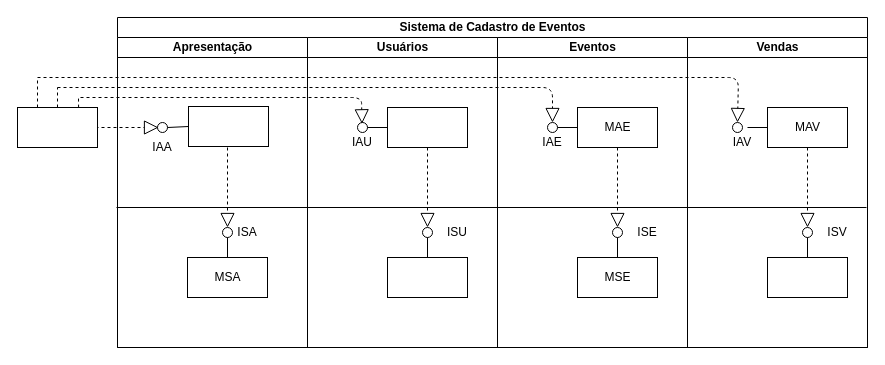
The diagram is 885 pixels wide and 365 high, and some of its shapes have lost their labels. Each missing label, with the centre of its shape:
"MAA" goes at pixel 228 126.
"MAC" goes at pixel 57 127.
"MAU" goes at pixel 427 127.
"MSU" goes at pixel 427 277.
"MSV" goes at pixel 807 277.
